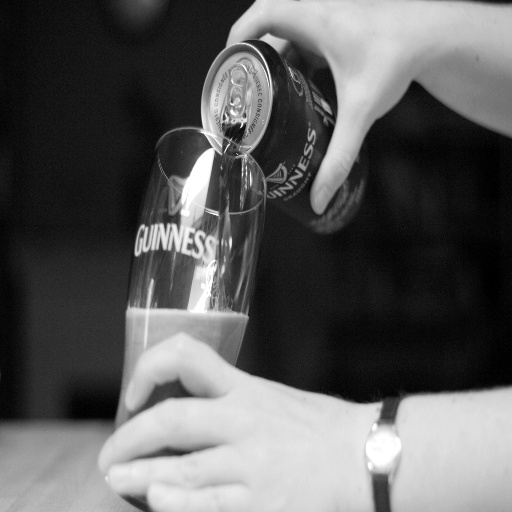hand: (106, 325, 372, 502), (225, 0, 423, 216)
